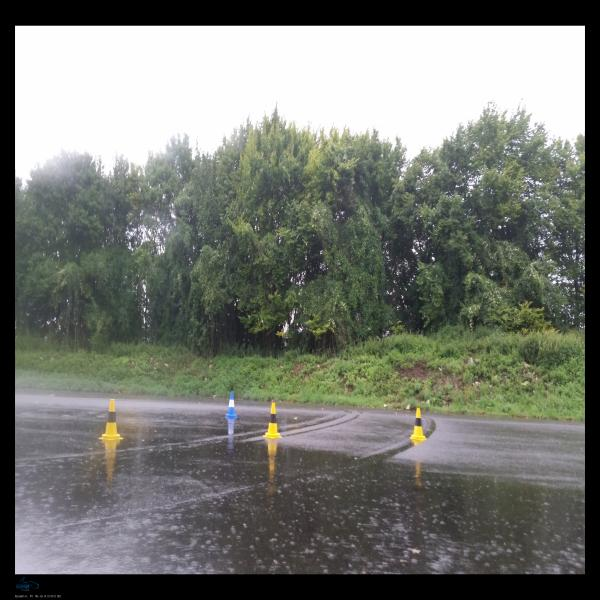blue_cone: (225, 392, 237, 418)
yellow_cone: (98, 399, 124, 440), (263, 403, 282, 439), (410, 408, 427, 440)
